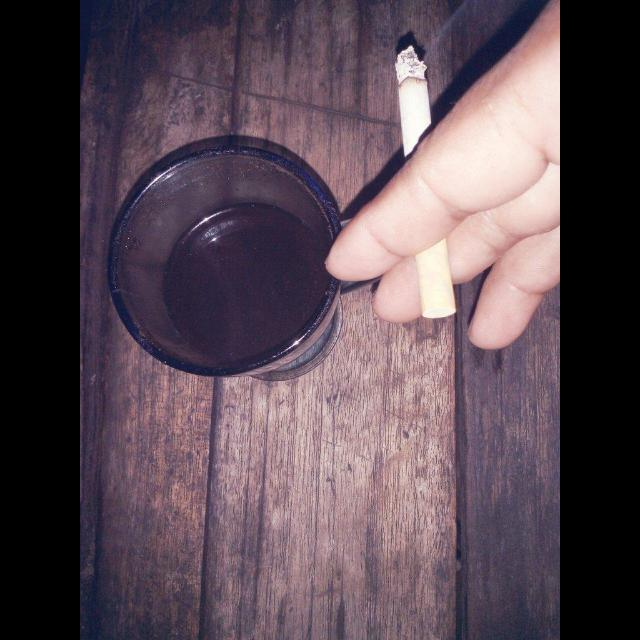rokok: (386, 33, 466, 327)
